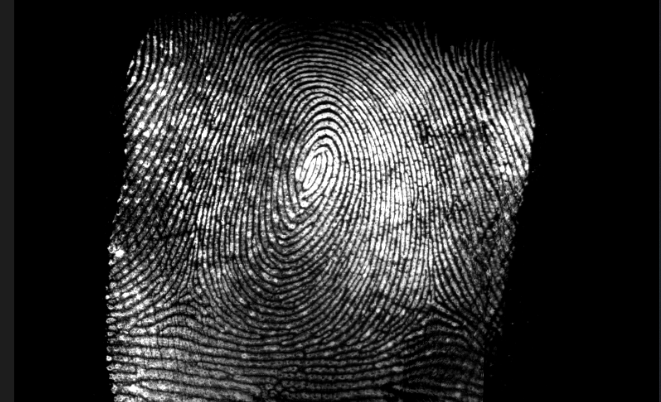deltas: (161, 260, 209, 317), (415, 285, 455, 334)
nucleo: (297, 146, 337, 201)
